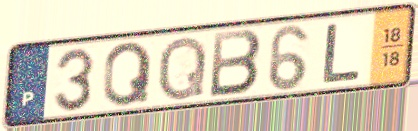3: (52, 45, 97, 114)
6: (265, 22, 310, 93)
B: (207, 27, 264, 101)
L: (320, 21, 364, 85)
Q: (155, 33, 210, 104), (102, 39, 155, 109)
